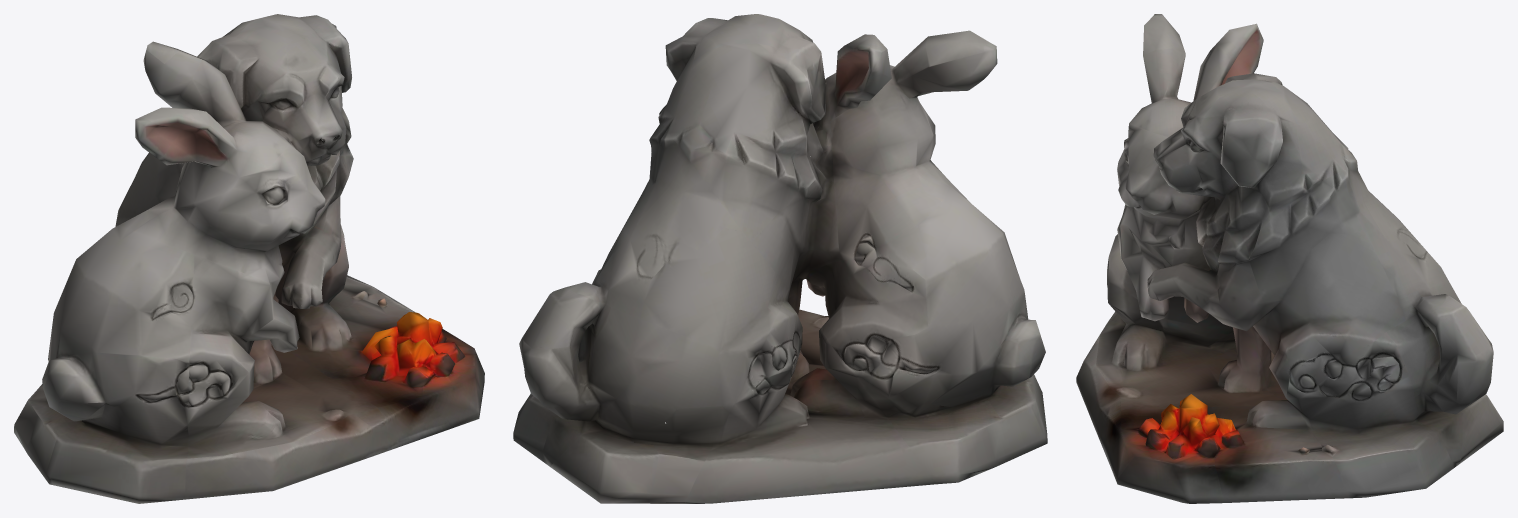
File: he_mao_xu.glb
The picture shows the model from 3 angles, left to right: view 1: azimuth 30°, elevation 25°; view 2: azimuth 150°, elevation 25°; view 3: azimuth 270°, elevation 25°; orthographic projection. The views are drawn at different scales.
Visible parts, largest first — view 1: tripo_node_6e1f890a-7636-48e7-9be5-b3affc783a92; view 2: tripo_node_6e1f890a-7636-48e7-9be5-b3affc783a92; view 3: tripo_node_6e1f890a-7636-48e7-9be5-b3affc783a92.
Boxes of the visible parts, left/top/right/bottom form: tripo_node_6e1f890a-7636-48e7-9be5-b3affc783a92: left=14, top=14, right=484, bottom=503; tripo_node_6e1f890a-7636-48e7-9be5-b3affc783a92: left=513, top=14, right=1047, bottom=503; tripo_node_6e1f890a-7636-48e7-9be5-b3affc783a92: left=1076, top=14, right=1503, bottom=503.
Bounding box in the file's own units: 0.9996 × 0.8433 × 0.9343.
Materials: 1 (1 with a texture image).
